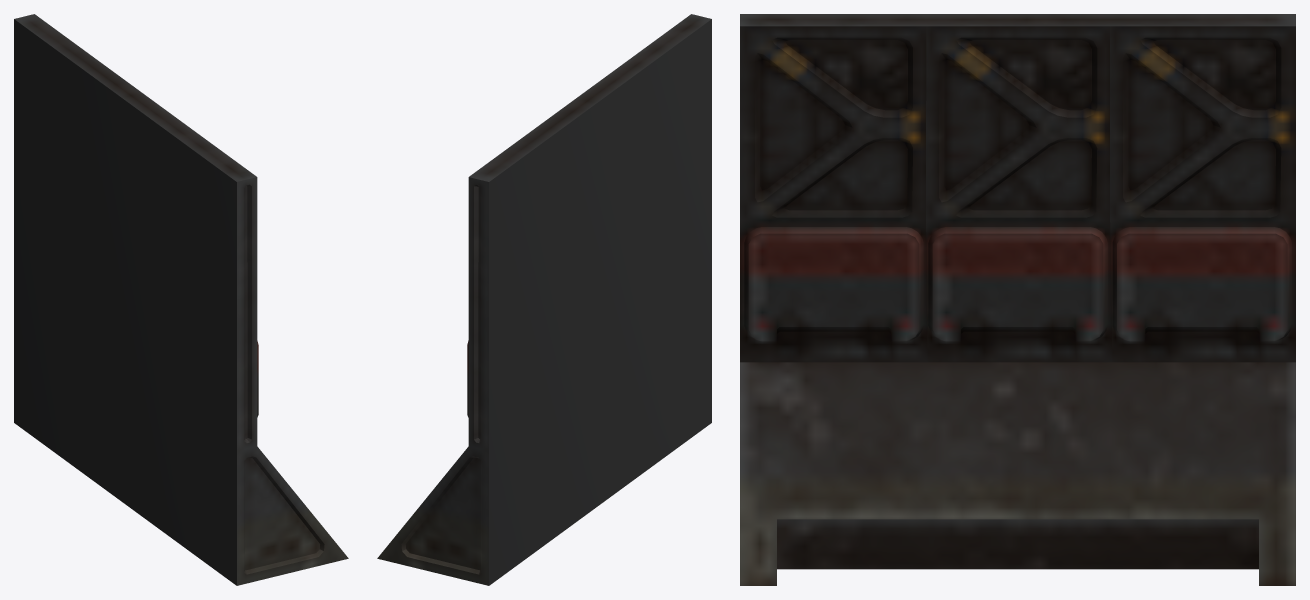
File: Wall_14.FBX
3 views of the same model, side by side, from view 1: azimuth 30°, elevation 25°; view 2: azimuth 150°, elevation 25°; view 3: azimuth 270°, elevation 25° (orthographic). The views are drawn at different scales.
Parts seen in each view (by area): view 1: Wall_14; view 2: Wall_14; view 3: Wall_14.
Boxes of the visible parts, x1,y1,x2,y2 form: Wall_14: [14, 14, 348, 585]; Wall_14: [377, 14, 711, 585]; Wall_14: [740, 14, 1295, 585].
Bounding box in the file's own units: 87.08 × 300 × 300.
